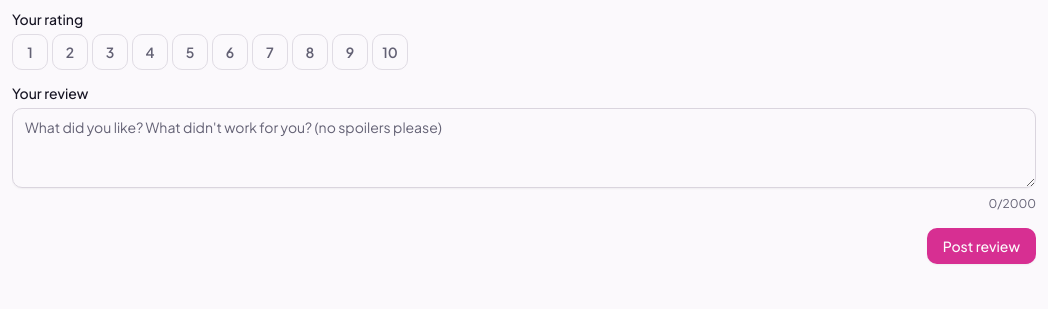
Test: ReviewForm › requires a rating and a review of at least 20 characters
Type "Too short" into the text box labelled "Your review" at (524, 148), box x1=12 y1=108 x2=1036 y2=188
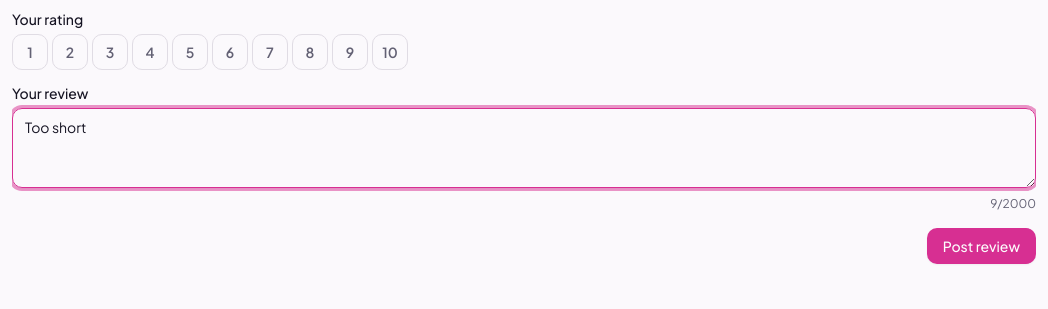
Click the button "Post review" at (981, 246), box x1=927 y1=228 x2=1036 y2=264
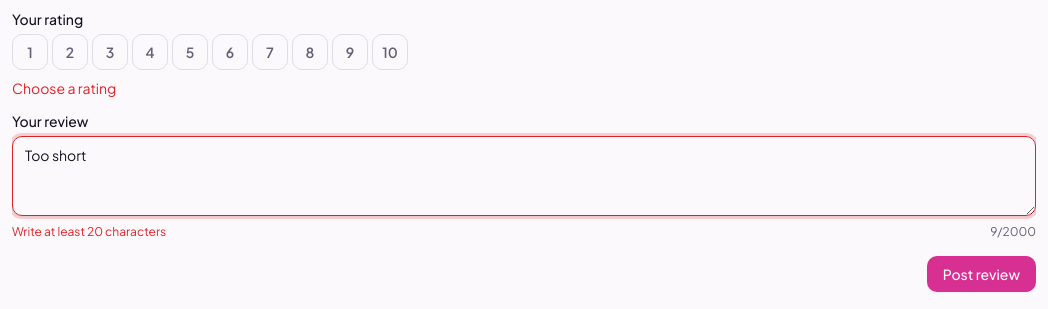
Now the text "Choose a rating" is shown, box x1=12 y1=79 x2=116 y2=97
Now the text "Write at least 20 characters" is shown, box x1=12 y1=224 x2=166 y2=240
